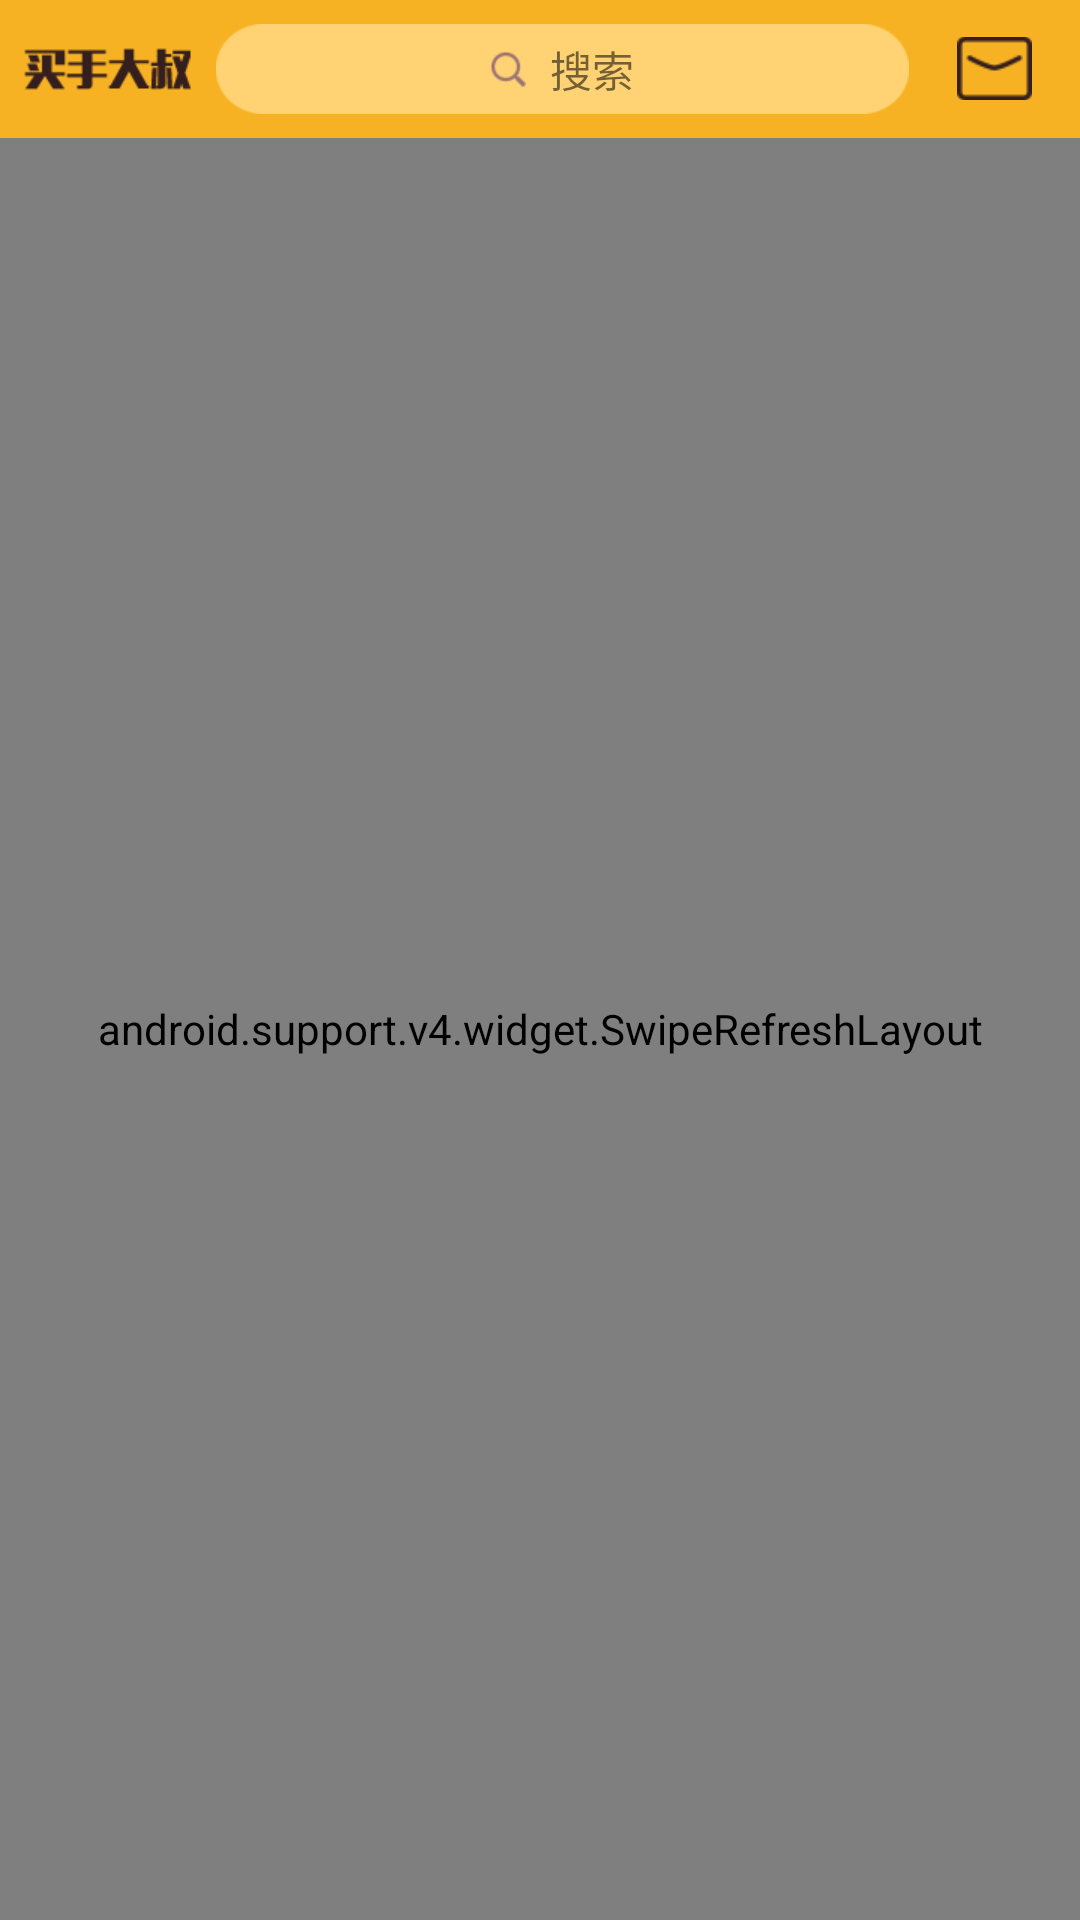

Icon bounding boxes for this 1080 x 1920 phone screenshot, format (x1=x1, y1=y1, x2=x2, y2=y2):
xiaoxi: (x1=957, y1=37, x2=1032, y2=100)
